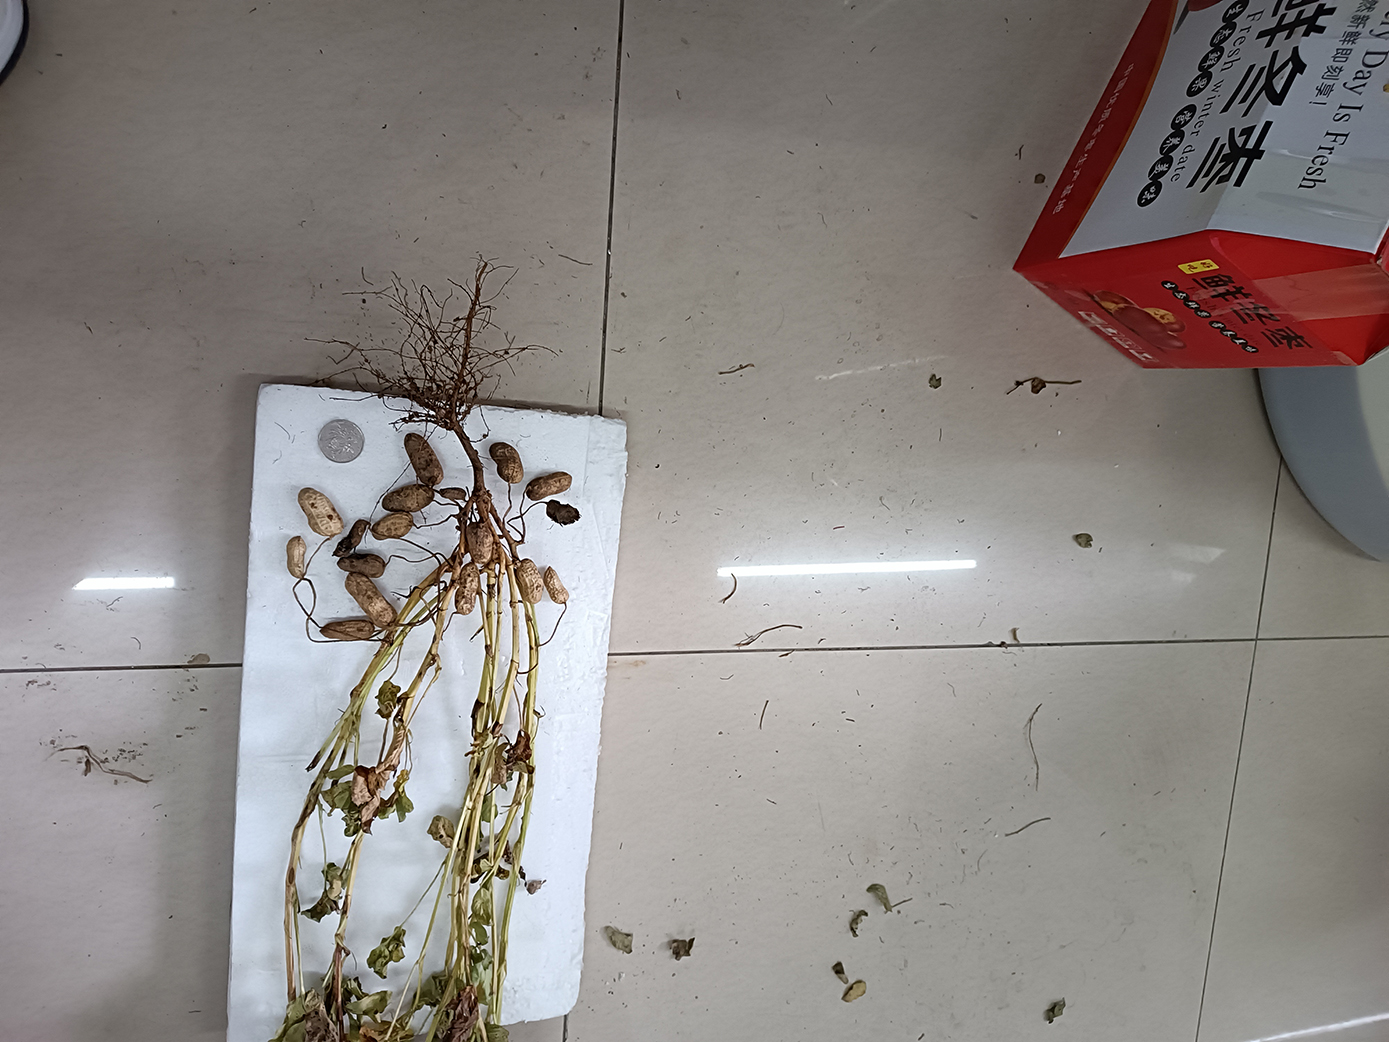h: (344, 572, 397, 629), (298, 487, 344, 536), (489, 441, 524, 484), (514, 558, 543, 605), (371, 512, 413, 541), (466, 522, 493, 563), (543, 566, 570, 604), (286, 535, 306, 579)
l: (404, 432, 443, 485), (381, 484, 435, 512), (331, 518, 368, 558), (525, 471, 572, 501), (455, 563, 481, 615), (320, 620, 375, 642), (336, 554, 386, 578), (545, 498, 582, 526), (439, 487, 467, 499)
